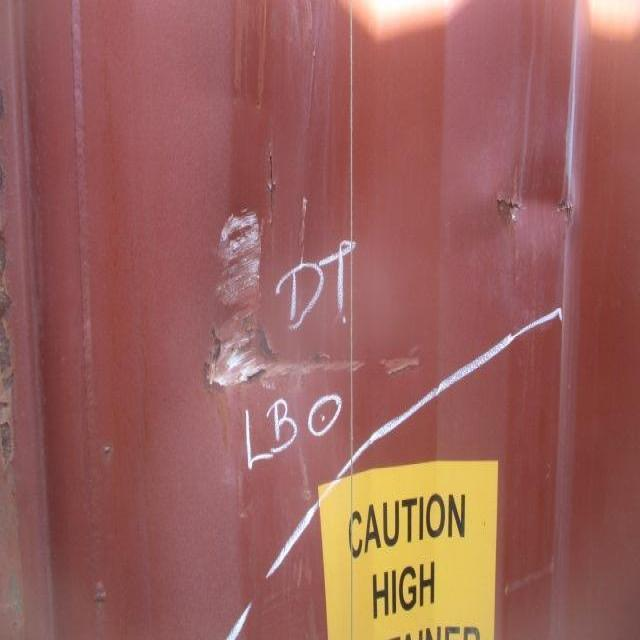dent: (77, 167, 577, 519)
